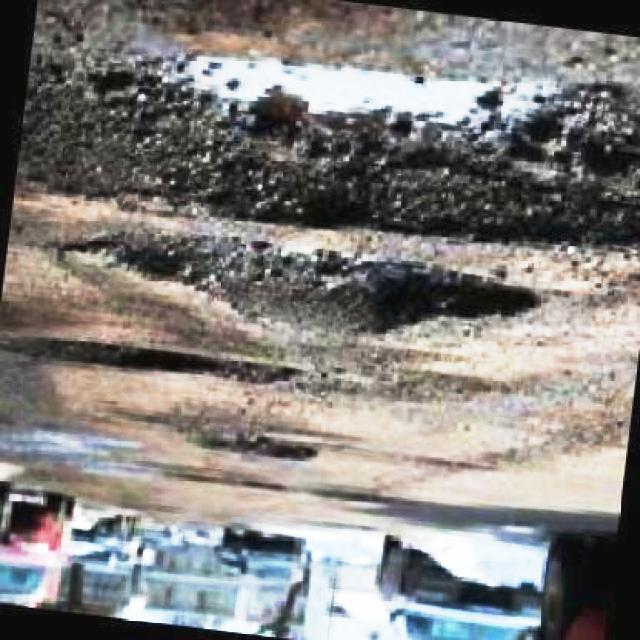pothole: (26, 0, 640, 262), (57, 218, 543, 340), (5, 324, 312, 390), (182, 422, 324, 466)
